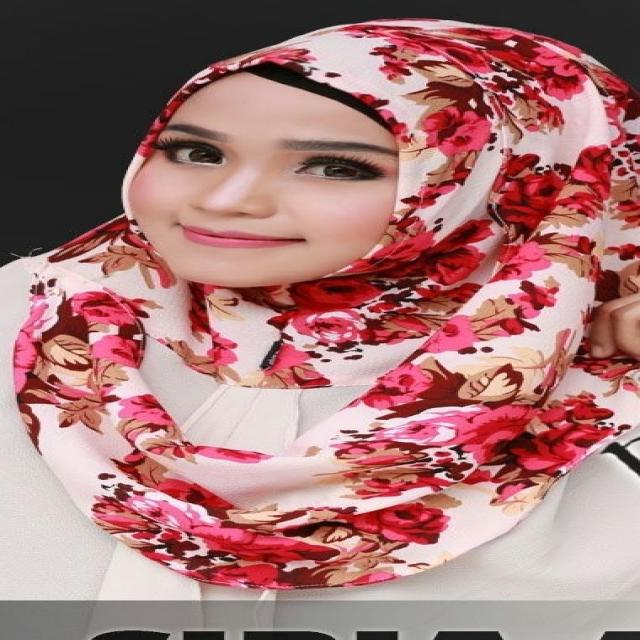head: (125, 20, 628, 292)
